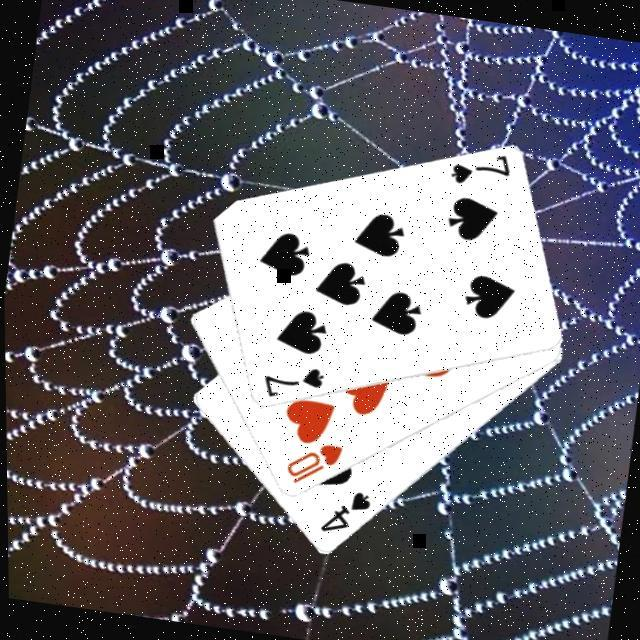10H: (281, 434, 348, 492)
4S: (316, 482, 377, 540)
7S: (259, 357, 330, 407), (446, 144, 518, 193)
